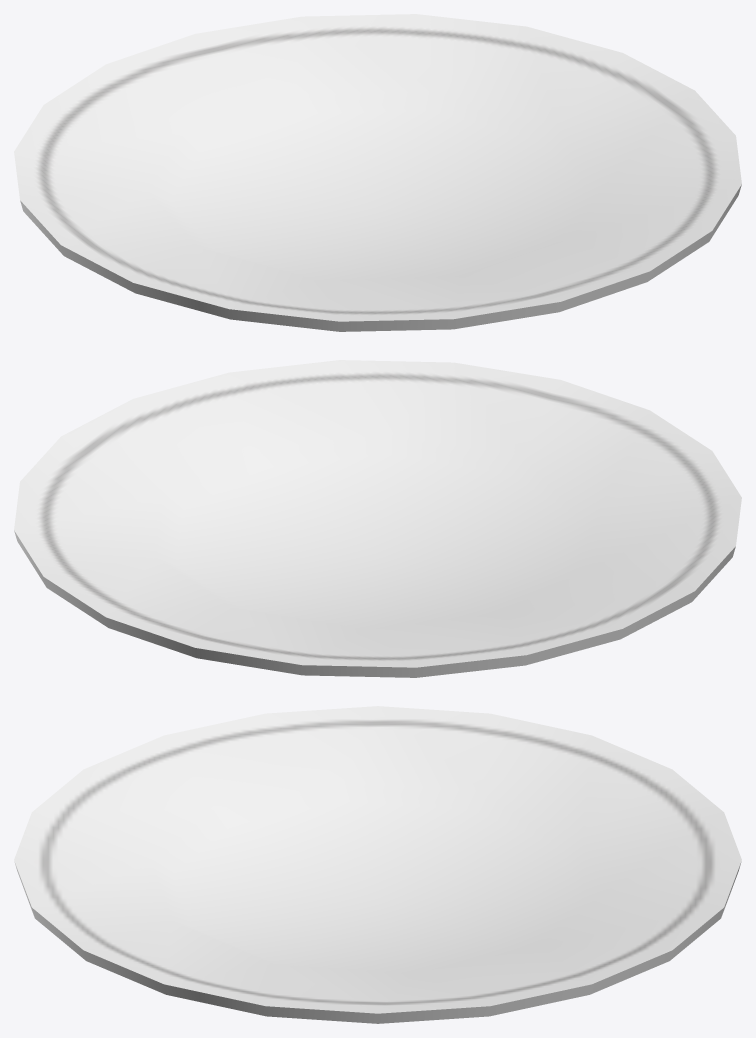
Rendered from plate.fbx.
3 views of the same model, one above another, from view 1: azimuth 30°, elevation 25°; view 2: azimuth 150°, elevation 25°; view 3: azimuth 270°, elevation 25° (orthographic).
Visible parts, largest first — view 1: plate; view 2: plate; view 3: plate.
Boxes of the visible parts, x1,y1,x2,y2 form: plate: (14, 14, 741, 331); plate: (14, 360, 741, 677); plate: (14, 706, 741, 1023).
Bounding box in the file's own units: 8.8 × 0.7367 × 8.8.
